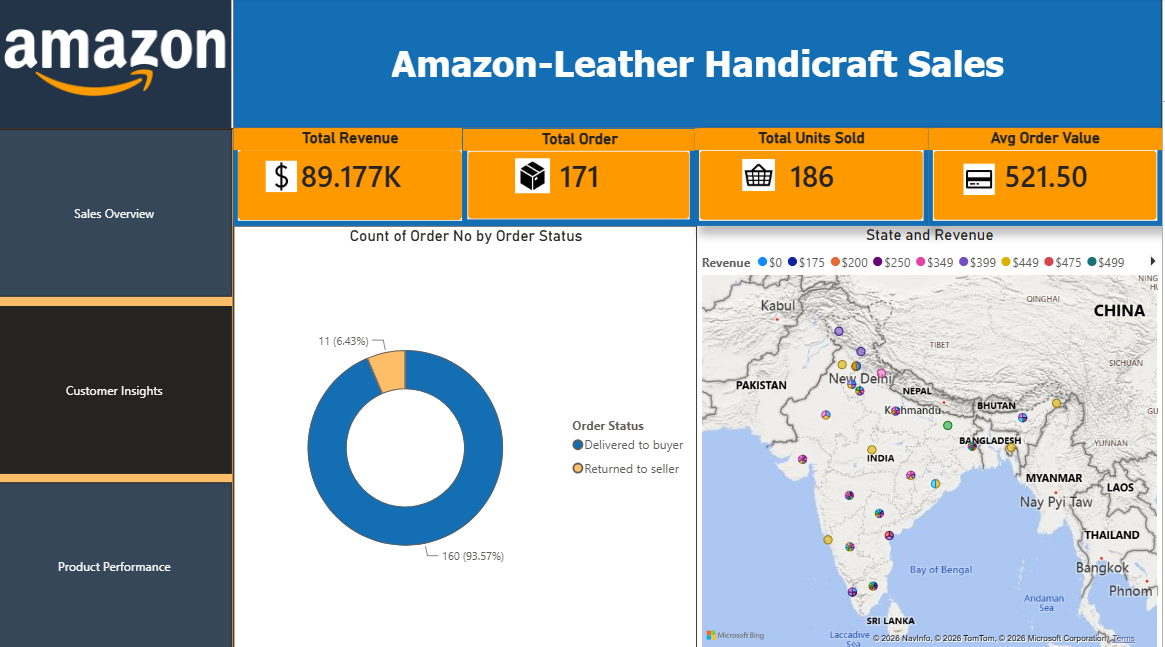

What the dashboard file says about the page in this screenshot:
{"tool":"powerbi","page":{"name":"Customer Insights","canvas":[1280,720],"ordinal":1},"visuals":[{"type":"shape","box":[260.4,0,1019.6,144.1],"z":0},{"type":"image","box":[0,0,260.7,144.1],"z":1000},{"type":"donutChart","fields":{"Category":["Sheet1.Order Status"],"Y":["CountNonNull(Sheet1.Order No)"]},"box":[260.7,251.1,509.1,469.3],"z":2000},{"type":"map","fields":{"Category":["Sheet1.State"],"Series":["Sheet1.Revenue"]},"box":[769.8,251.1,510.5,469.3],"z":3000},{"type":"pageNavigator","box":[0,143.7,260.7,576.3],"z":4000},{"type":"cardVisual","title":"Total Revenue","fields":{"Data":["Sheet1.Total Revenue"]},"box":[260.7,144.1,256.6,107],"z":5000},{"type":"cardVisual","title":"Total Order","fields":{"Data":["Sheet1.Total order"]},"box":[511.8,144.1,256.6,107],"z":6000},{"type":"cardVisual","title":"Total Units Sold","fields":{"Data":["Sheet1.Total Units sold"]},"box":[767.1,144.1,256.6,107],"z":7000},{"type":"cardVisual","title":"Avg Order Value","fields":{"Data":["Sheet1.Average Order Value"]},"box":[1023.4,144.1,256.6,107],"z":8000},{"type":"image","box":[284,179.8,59,34.3],"z":9000},{"type":"image","box":[562.6,177,52.1,38.4],"z":10000},{"type":"image","box":[819.2,177,35.7,37],"z":11000},{"type":"image","box":[1062.1,179.8,34.3,41.2],"z":12000}]}

Visuals, with their boxes in screenshot pixels (x1, y1, x2, y2), scaled from the page's 1280x720 canvas onto the 1165x647 screenshot:
shape: x1=237, y1=0, x2=1164, y2=129
image: x1=0, y1=0, x2=237, y2=129
donutChart - Sheet1.Order Status x CountNonNull(Sheet1.Order No): x1=237, y1=226, x2=701, y2=646
map - Sheet1.State x Sheet1.Revenue: x1=701, y1=226, x2=1164, y2=646
pageNavigator: x1=0, y1=129, x2=237, y2=646
"Total Revenue" cardVisual: x1=237, y1=129, x2=471, y2=226
"Total Order" cardVisual: x1=466, y1=129, x2=699, y2=226
"Total Units Sold" cardVisual: x1=698, y1=129, x2=932, y2=226
"Avg Order Value" cardVisual: x1=931, y1=129, x2=1164, y2=226
image: x1=258, y1=162, x2=312, y2=192
image: x1=512, y1=159, x2=559, y2=194
image: x1=746, y1=159, x2=778, y2=192
image: x1=967, y1=162, x2=998, y2=199
